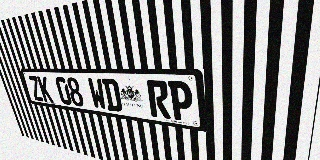0: (54, 77, 72, 105)
8: (66, 77, 85, 107)
D: (101, 78, 123, 112)
K: (37, 76, 54, 103)
P: (168, 81, 194, 122)
R: (146, 80, 171, 119)
W: (87, 78, 107, 110)
Z: (28, 76, 44, 101)
